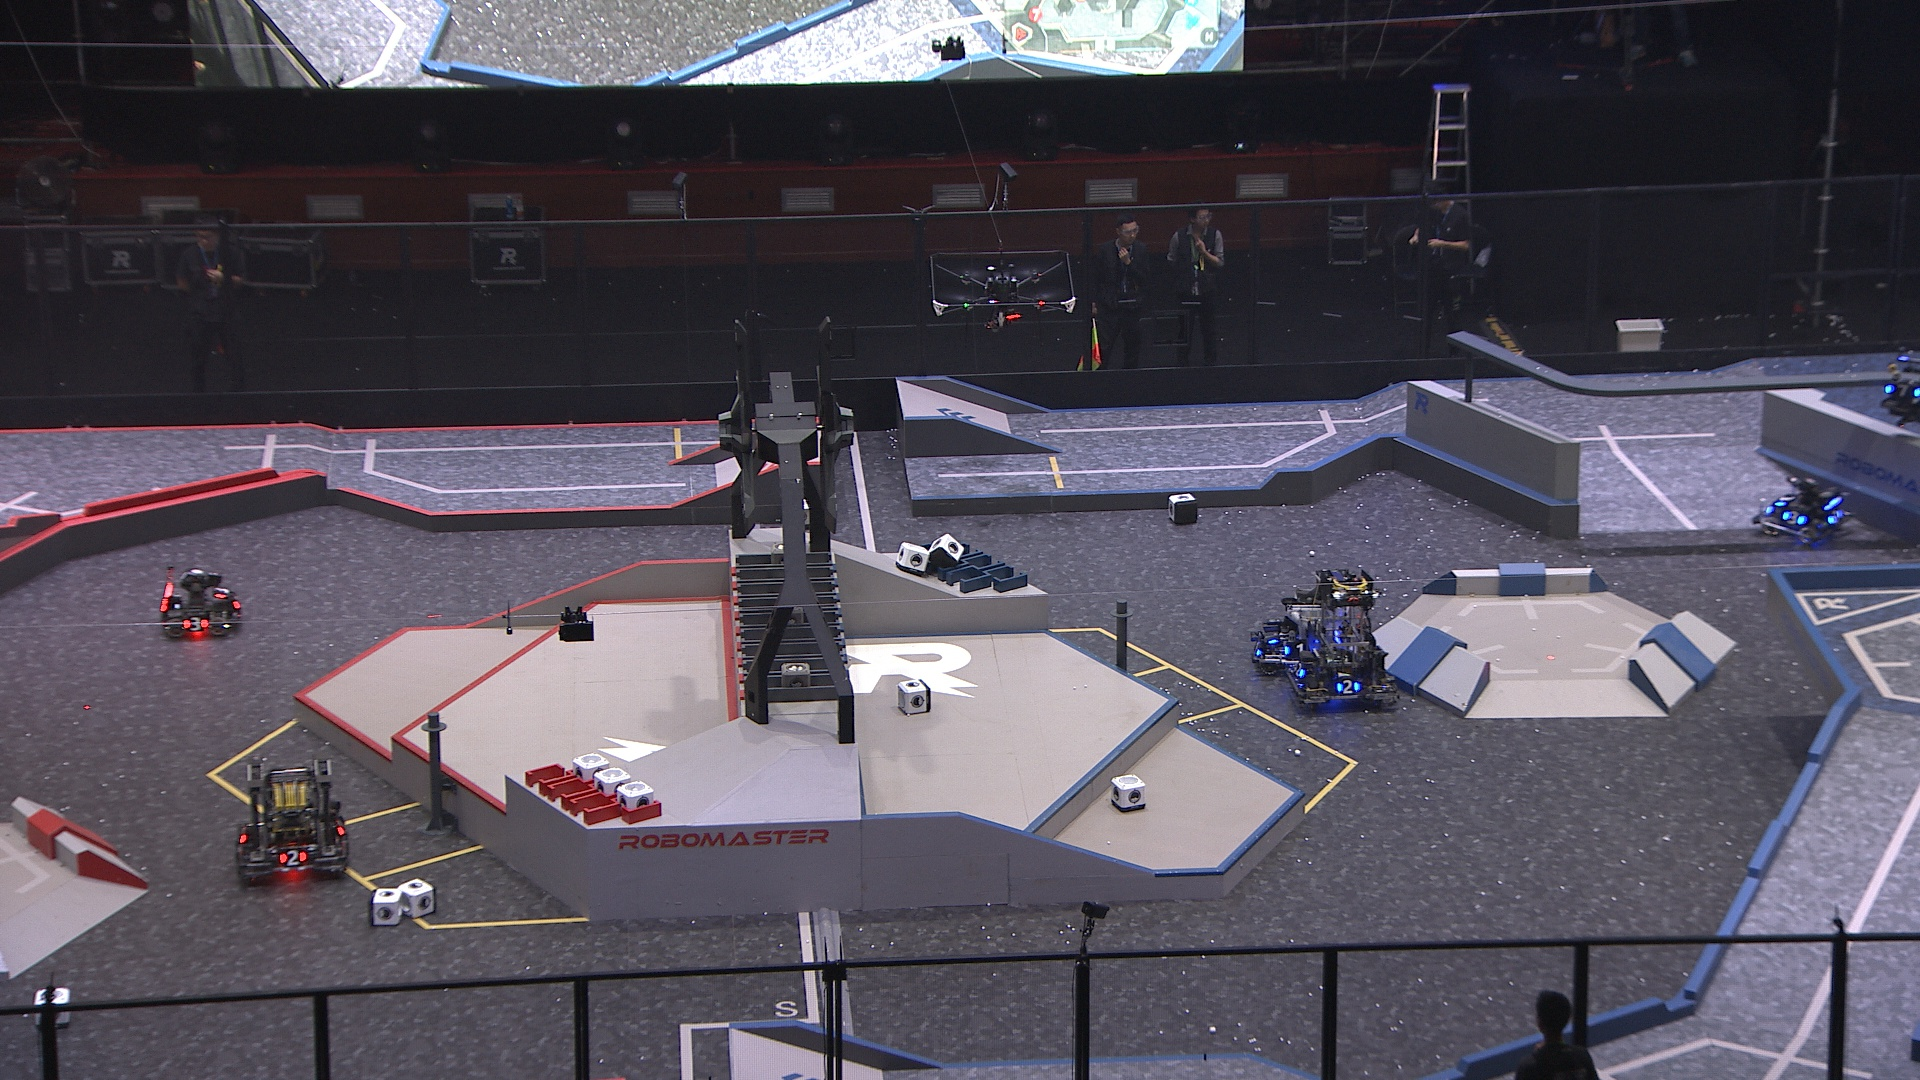armor: (1883, 382, 1920, 400), (280, 847, 309, 866), (182, 616, 211, 633), (1282, 642, 1309, 659), (1782, 509, 1807, 526), (1826, 506, 1842, 529), (334, 815, 345, 844), (1774, 491, 1795, 506), (1338, 679, 1361, 694), (212, 585, 231, 603), (1263, 628, 1278, 647), (1292, 661, 1305, 680), (1251, 638, 1263, 657)
car: (1287, 564, 1404, 709), (229, 756, 352, 880), (1250, 578, 1342, 673), (1751, 472, 1854, 546), (157, 562, 247, 637)
watcher: (1876, 353, 1920, 429)
